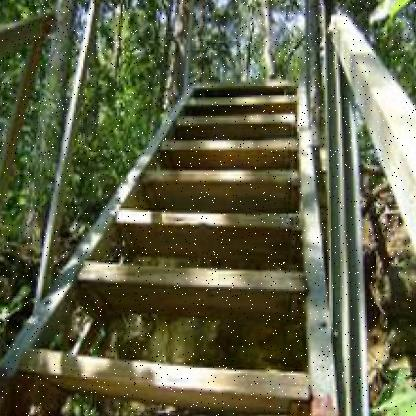stair_up: (52, 140, 307, 385)
